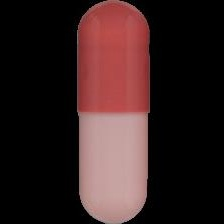43063-451: (0, 0, 224, 224)
